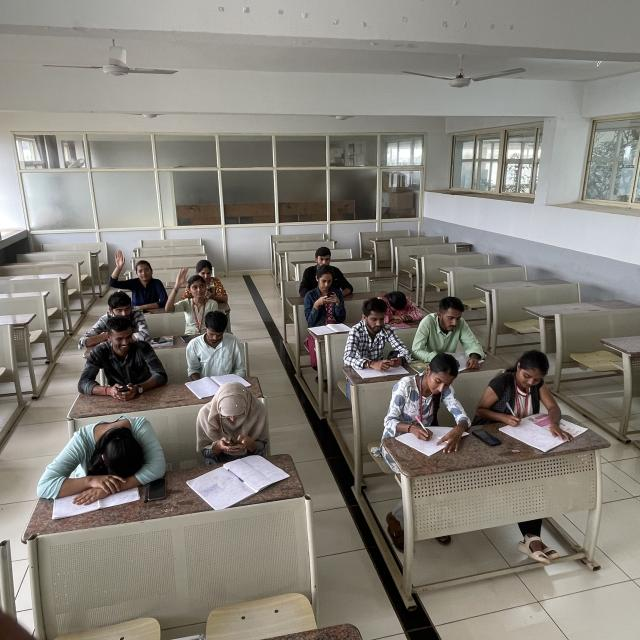Hand Rising: (106, 248, 168, 306), (163, 264, 213, 332)
Sleeping: (38, 410, 168, 489), (378, 287, 426, 324)
Using Phone: (81, 313, 169, 397), (189, 380, 268, 458), (345, 302, 413, 376), (302, 267, 348, 324)
Writing: (391, 352, 476, 452)
